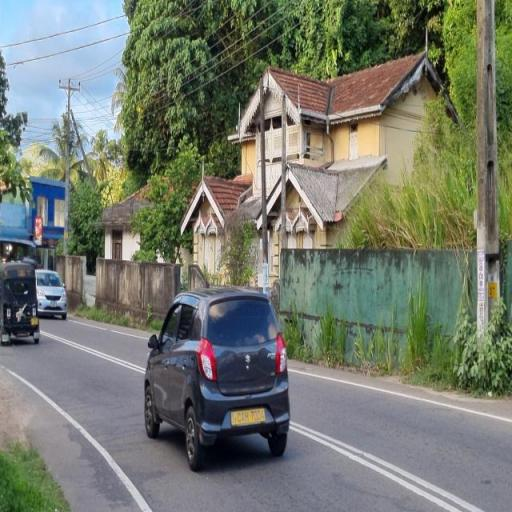double_white_line: (0, 357, 146, 511), (291, 418, 480, 510)
